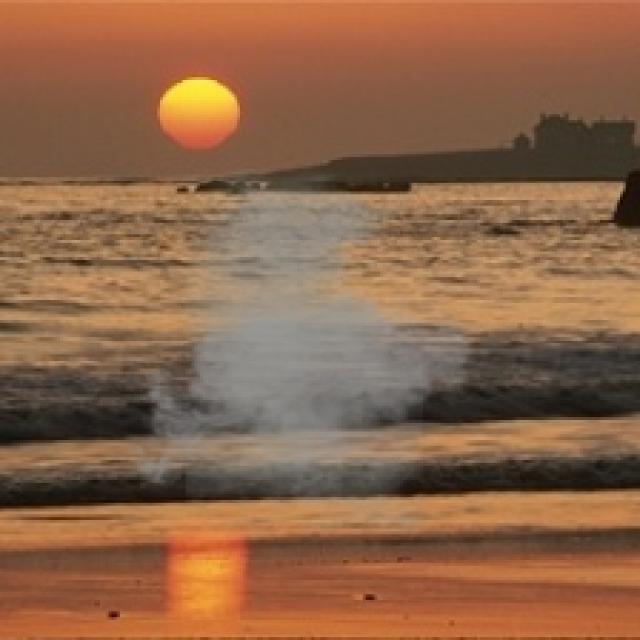Smoke: (120, 168, 489, 534)
